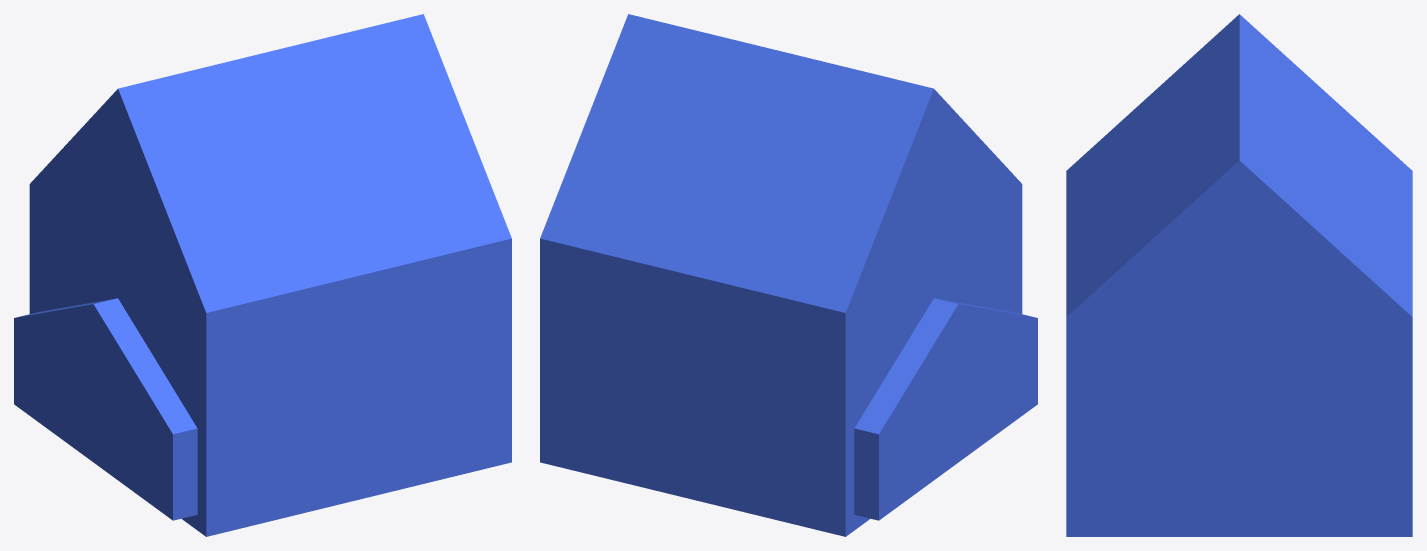
Rendered from House_1.fbx.
3 views of the same model, side by side, from view 1: azimuth 30°, elevation 25°; view 2: azimuth 150°, elevation 25°; view 3: azimuth 270°, elevation 25° (orthographic).
Visible parts, largest first — view 1: Cube.006; view 2: Cube.006; view 3: Cube.006.
Boxes of the visible parts, x1,y1,x2,y2 form: Cube.006: [14, 14, 511, 536]; Cube.006: [540, 14, 1037, 536]; Cube.006: [1066, 14, 1412, 536].
Size of the model in its own units: 98.98 by 110 by 91.63.
